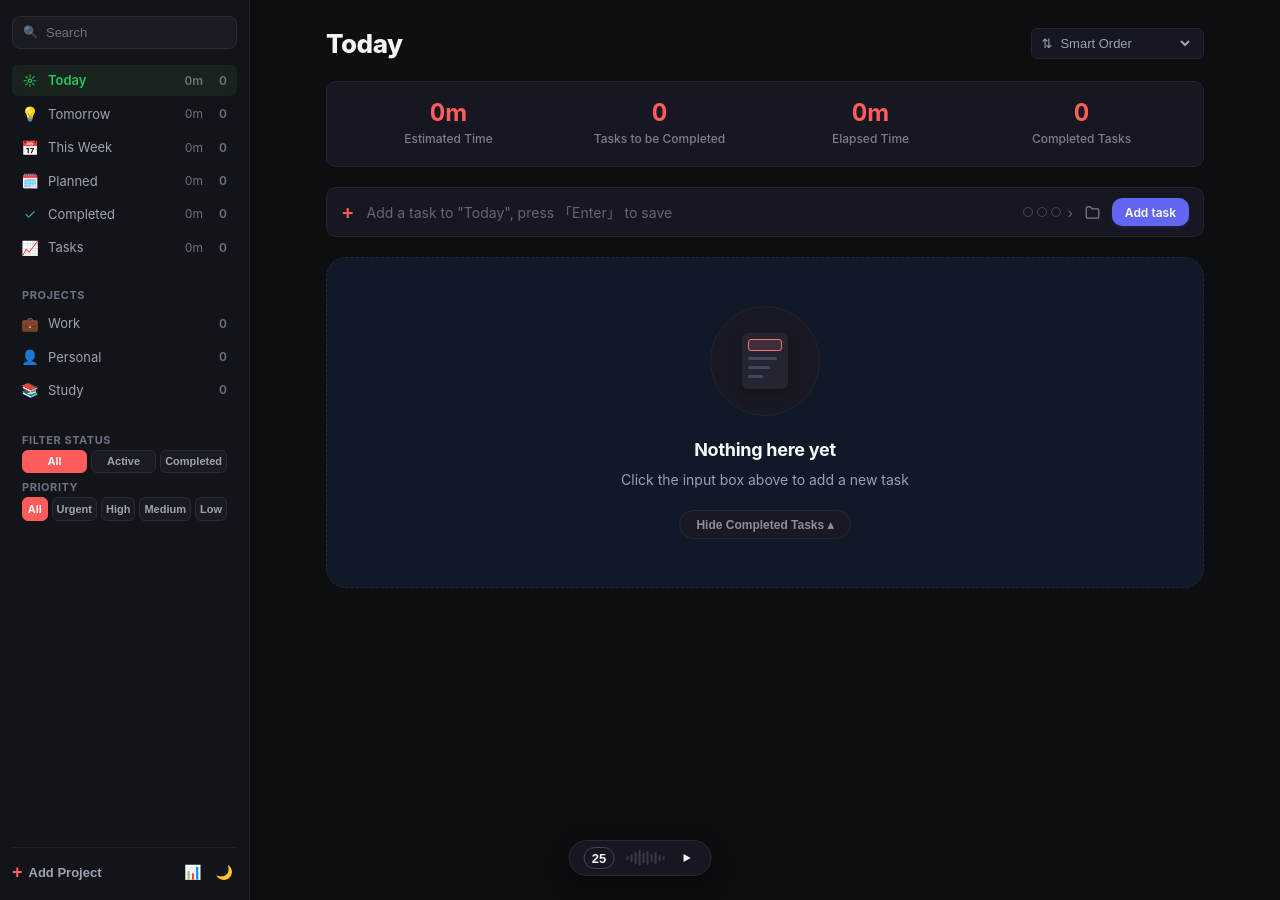
Test case: App component integration › adds a task when form is submitted with valid title
Type "Buy groceries" into the field named "title".
click(689, 212); type("Buy groceries")  # box [366,204,1012,221]
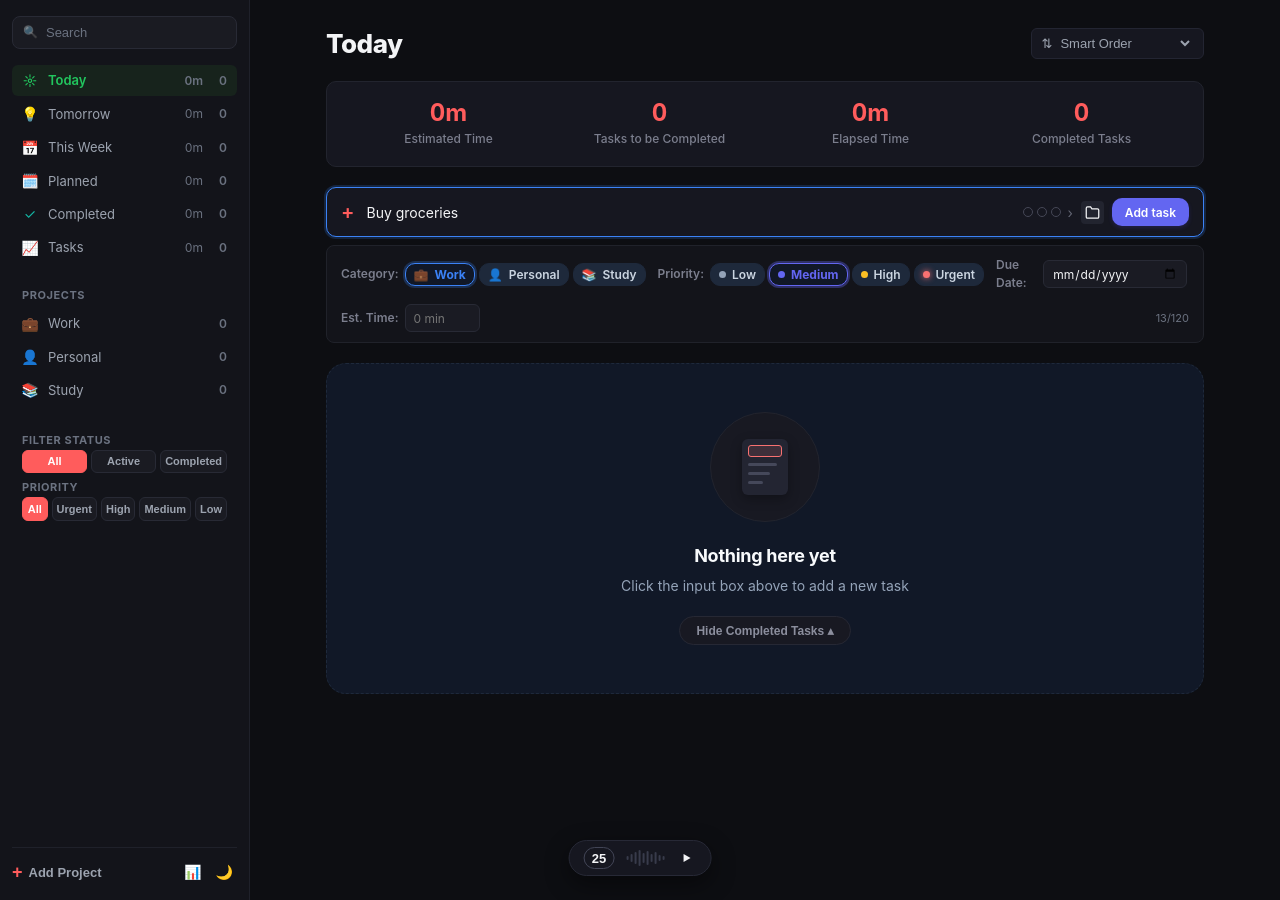
Click the button "Add task".
click(1150, 212)  # box [1112,198,1189,226]
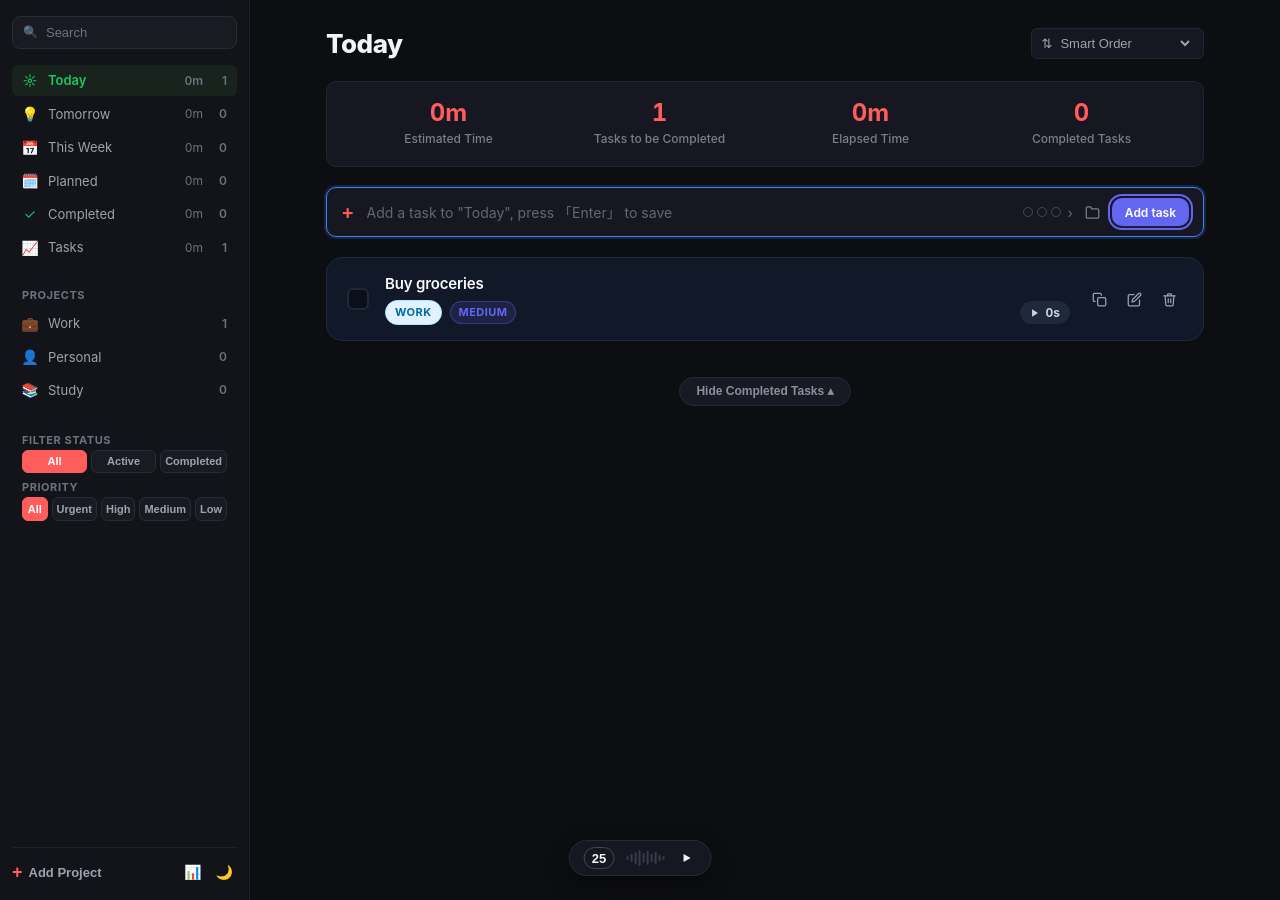
Now the text "Buy groceries" is shown, box [385,274,484,293]
